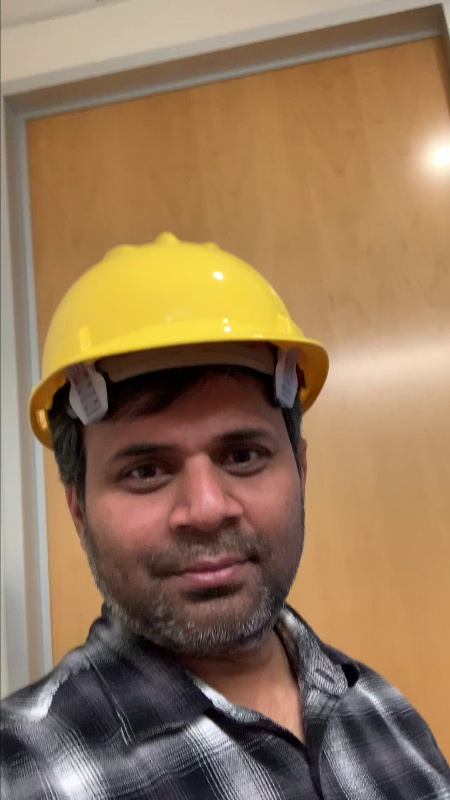helmet: (22, 228, 324, 369)
